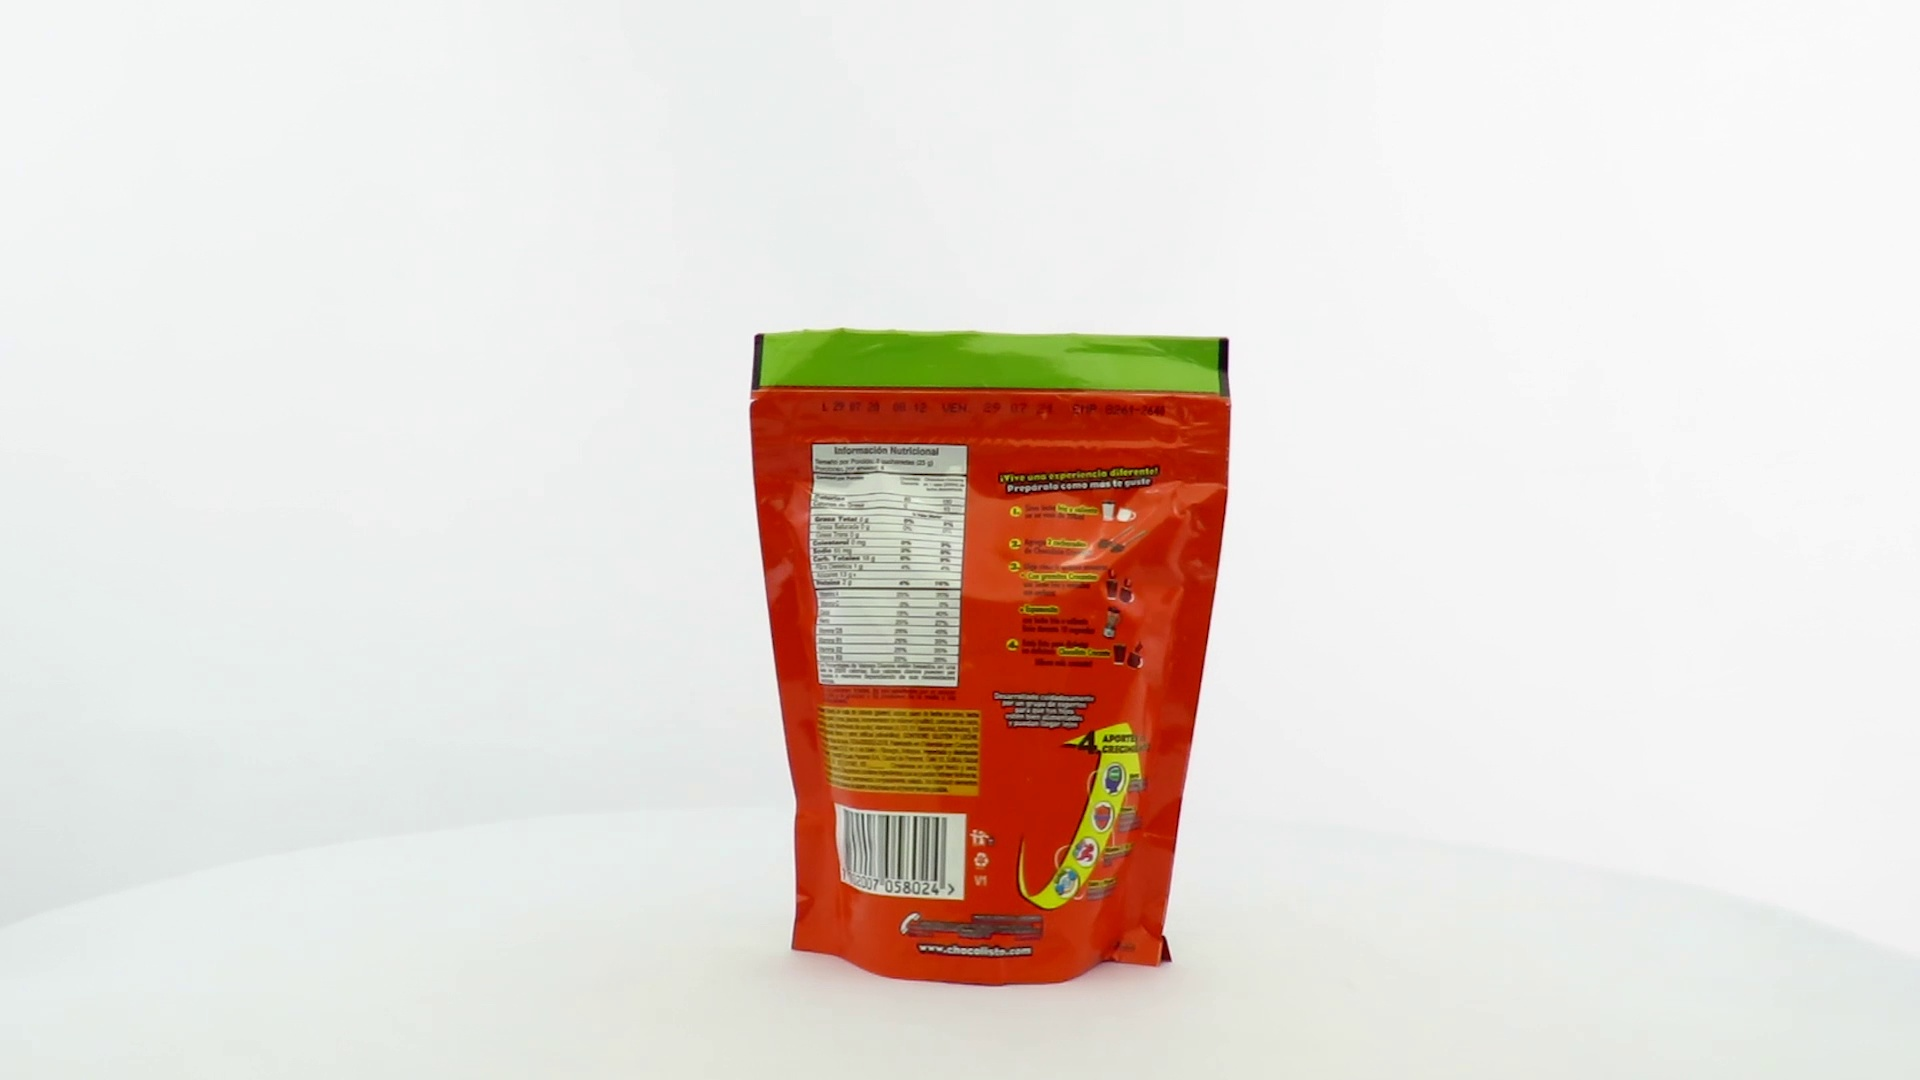COL0170102DYP10000: (744, 322, 1238, 993)
